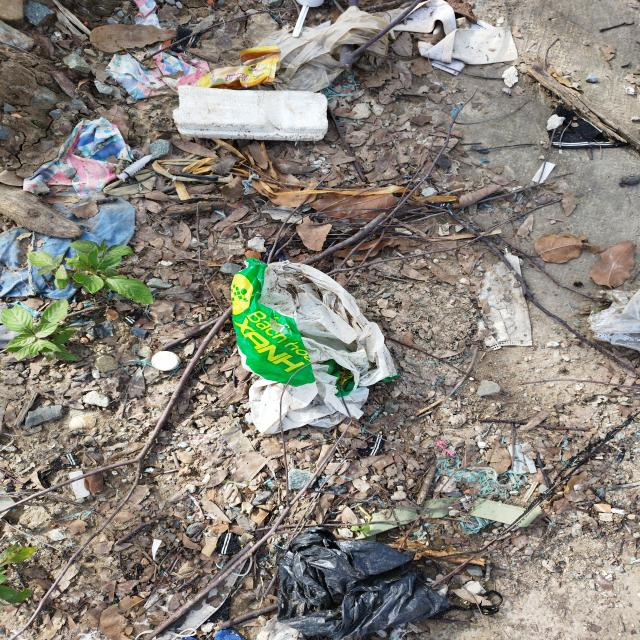bag: (231, 259, 397, 433), (278, 527, 450, 640)
plastic utensil: (292, 0, 324, 37)
snack package: (193, 55, 279, 89)
